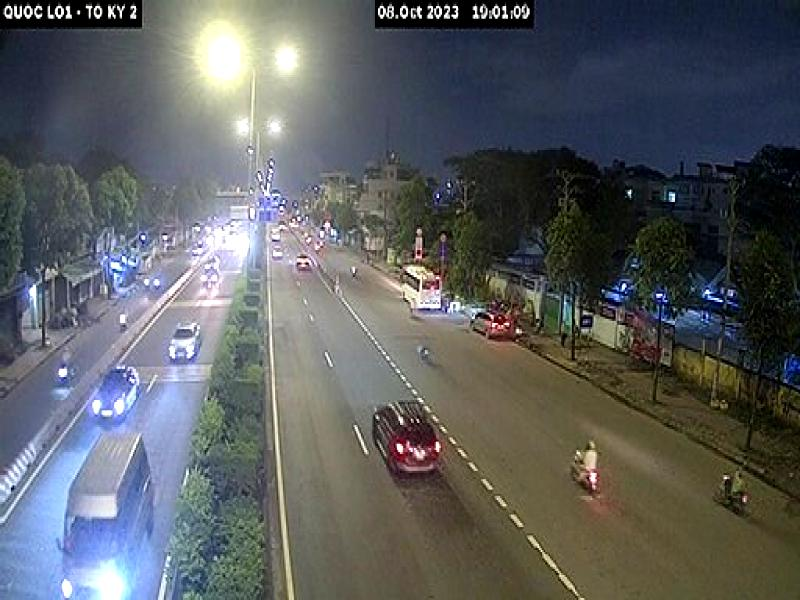bus: (400, 251, 437, 323)
car: (48, 424, 153, 592), (361, 390, 450, 497), (93, 358, 150, 442), (157, 314, 209, 377)
